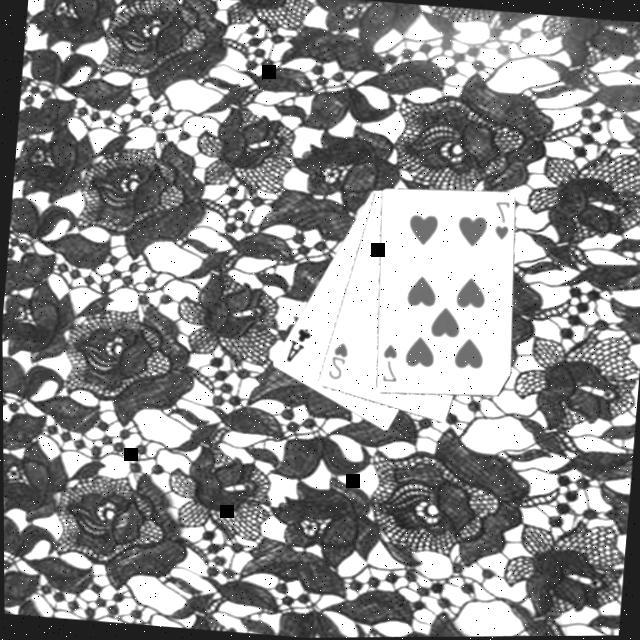2H: (321, 337, 349, 383)
7H: (485, 197, 511, 243), (374, 339, 399, 385)
AC: (279, 324, 311, 366)
